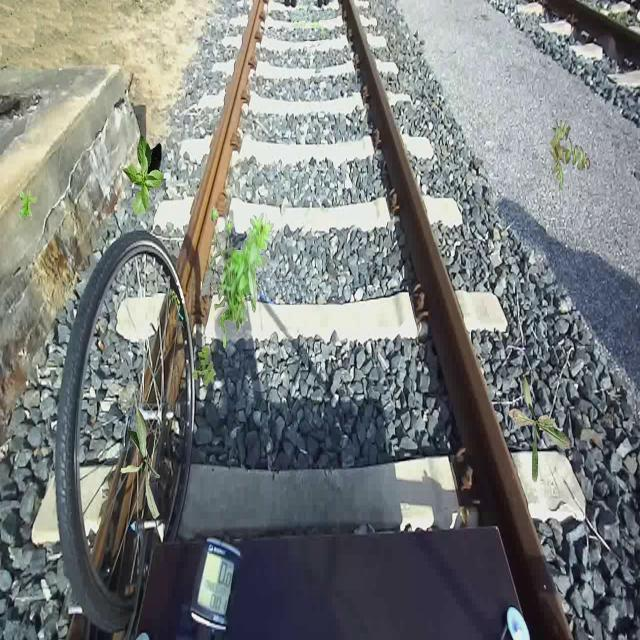Plant: (210, 205, 274, 348), (507, 371, 571, 483), (121, 410, 161, 520), (122, 135, 164, 215), (549, 119, 590, 190), (193, 346, 217, 387), (20, 189, 38, 221)
